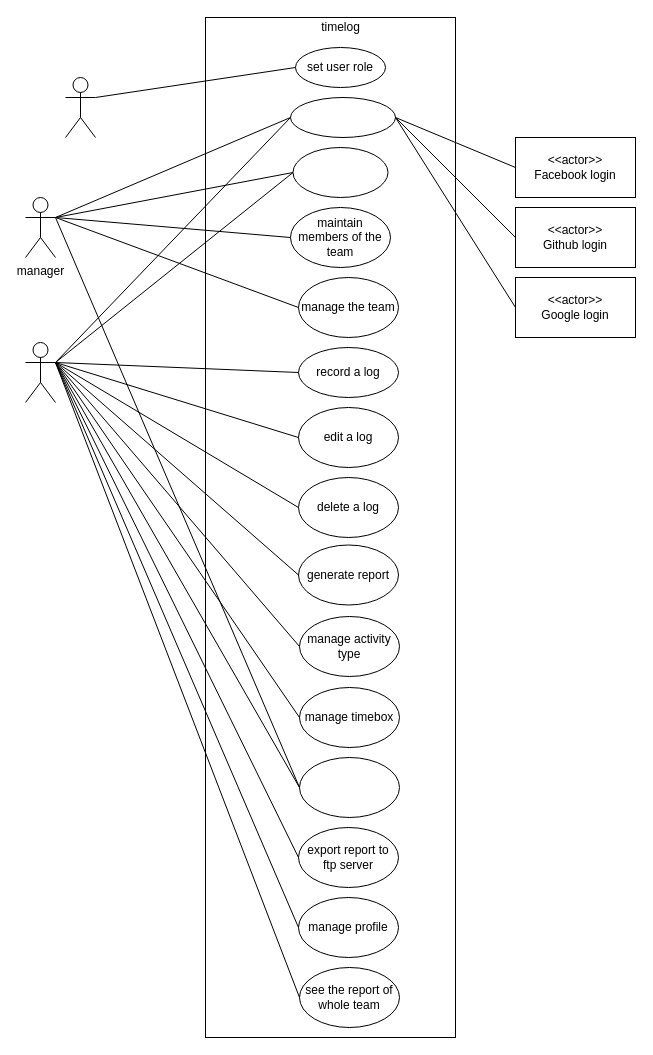
The diagram is 653 pixels wide and 1055 high, and some of its shapes have lost their labels. The centre of each missing label's shape, as x and y in pixels:
"admin" belongs at point 80,107.
"Login" belongs at point 343,117.
"manage goal" belongs at point 349,787.
"member" belongs at point 40,372.
"register" belongs at point 340,172.
